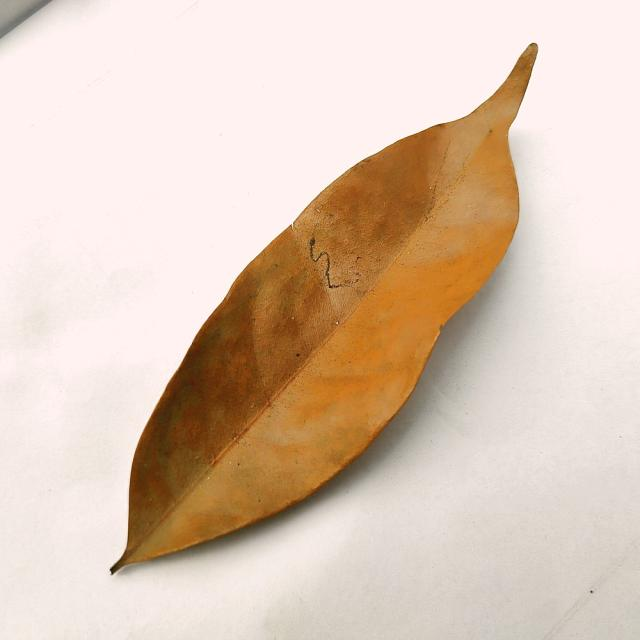Dry_Leaf-Lychee: (113, 44, 540, 575)
